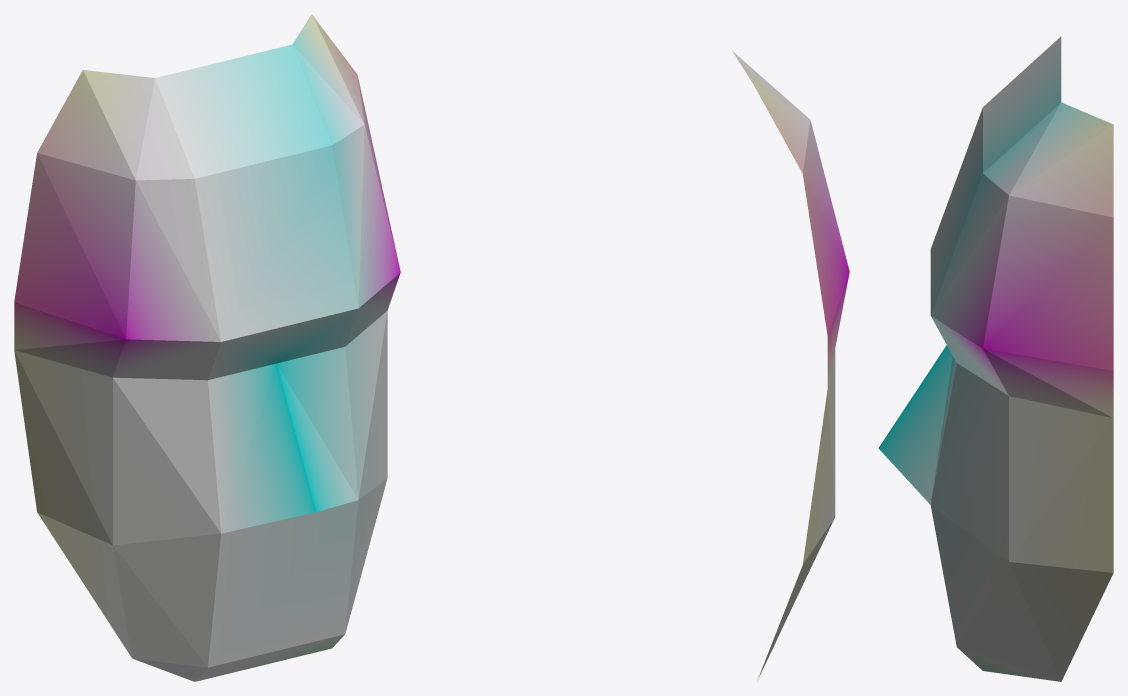
3 renders of one model, left to right at view 1: azimuth 30°, elevation 25°; view 2: azimuth 150°, elevation 25°; view 3: azimuth 270°, elevation 25°, orthographic. The views are drawn at different scales.
Visible parts, largest first — view 1: model_1413; view 2: model_1413; view 3: model_1413.
Boxes of the visible parts, <box> form: model_1413: <box>14,14,400,681</box>; model_1413: <box>732,51,849,679</box>; model_1413: <box>878,36,1113,681</box>.
Size of the model in its own units: 16 by 24 by 9.
